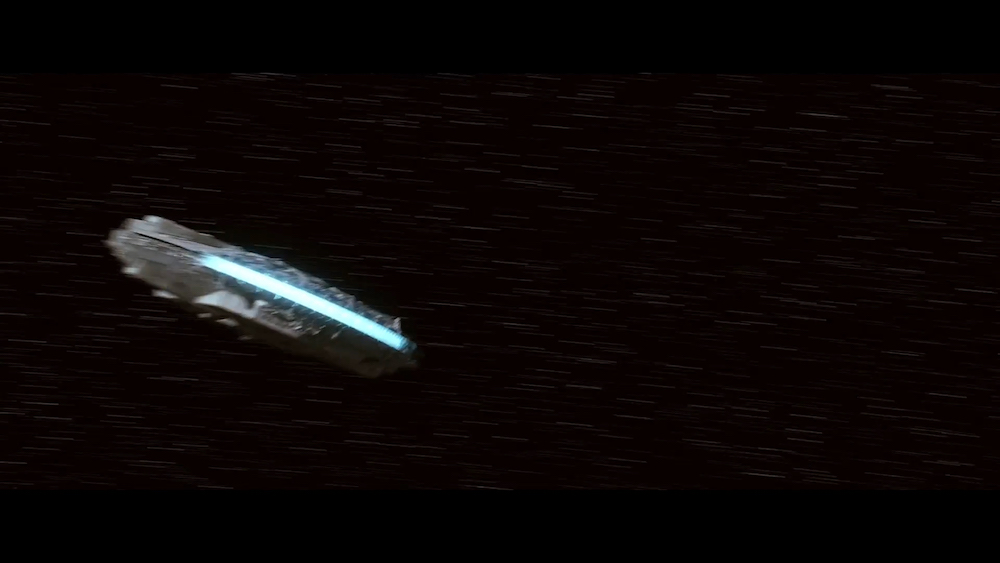Millennium Falcon: (106, 215, 426, 389)
